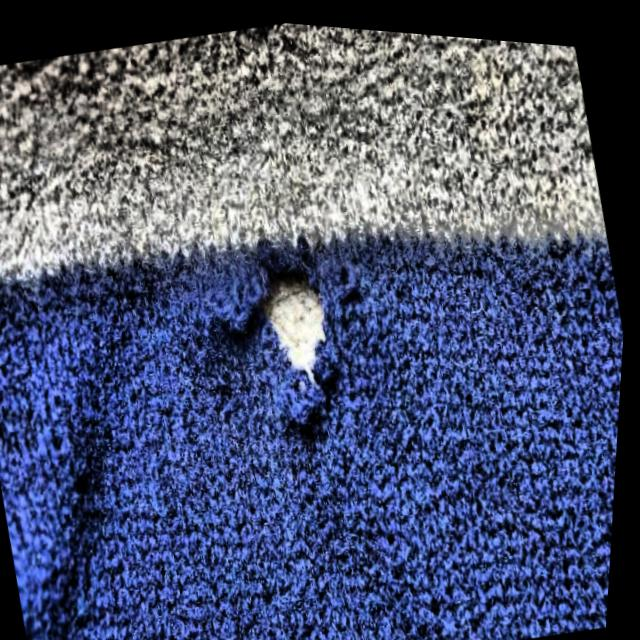Hole: (199, 224, 392, 443)
